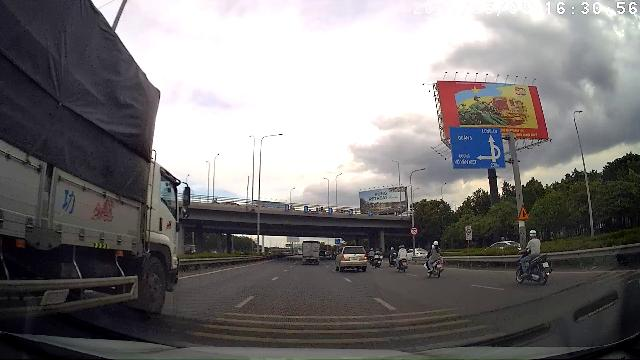123b-cam-re-phai: (410, 227, 418, 236)
